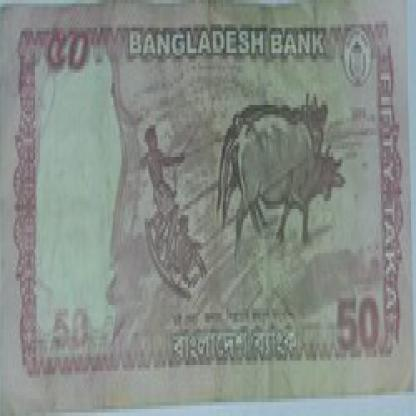Fifty taka: (322, 271, 390, 368), (36, 14, 90, 87)
